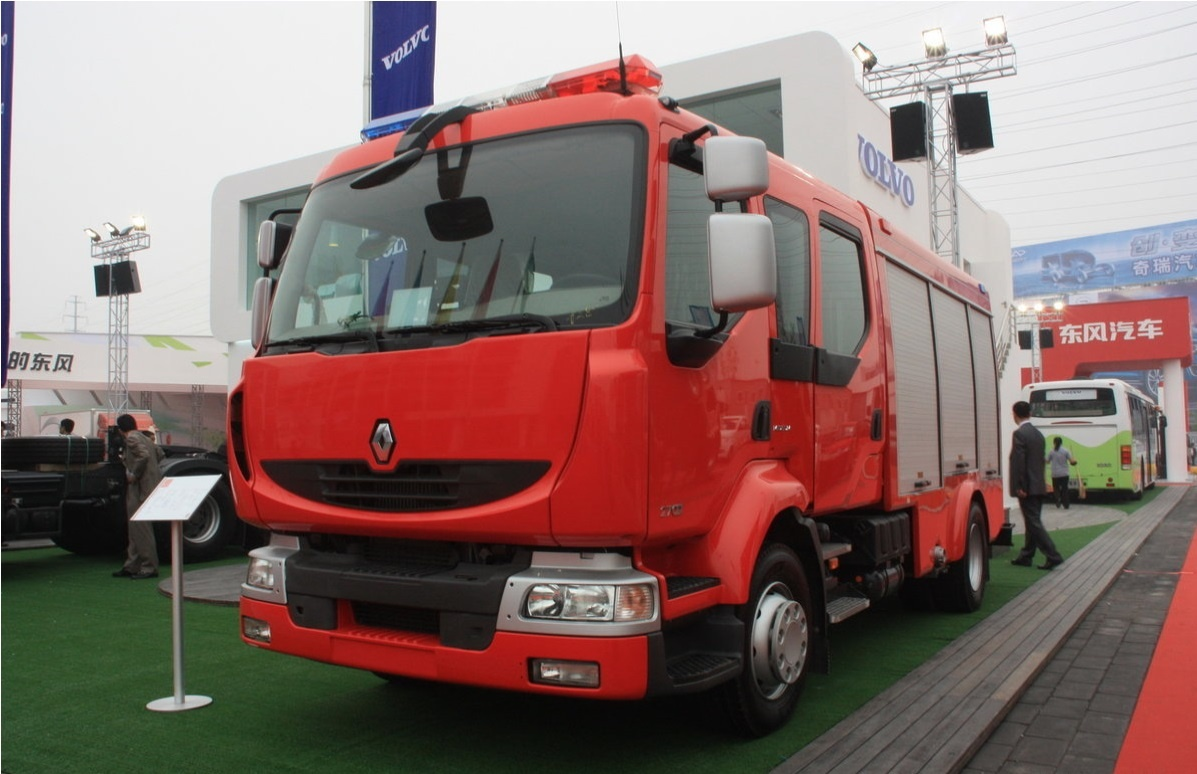fire engine: (236, 74, 1024, 717)
